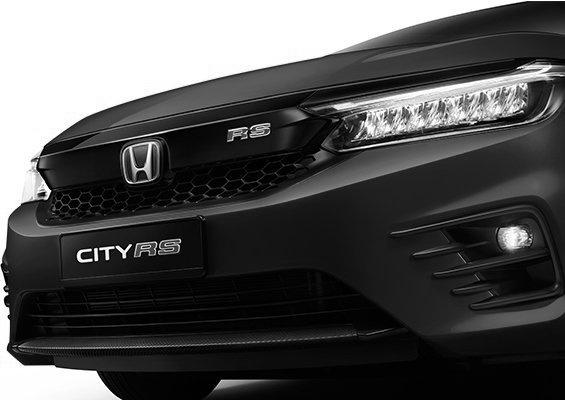Car hood: (30, 8, 557, 152)
Front bumper: (5, 113, 565, 377)
Headlight - -L-: (311, 68, 565, 162)
Headlight - -R-: (17, 155, 58, 204)
